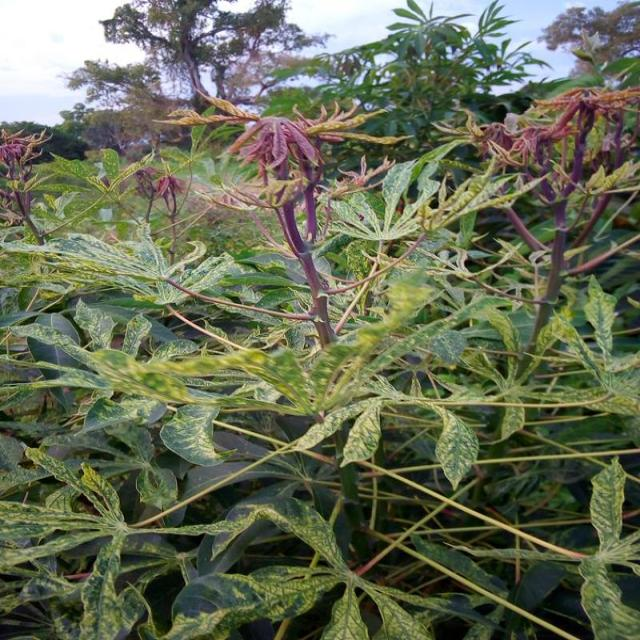cassava leaf: (0, 69, 638, 638), (434, 406, 479, 491)
